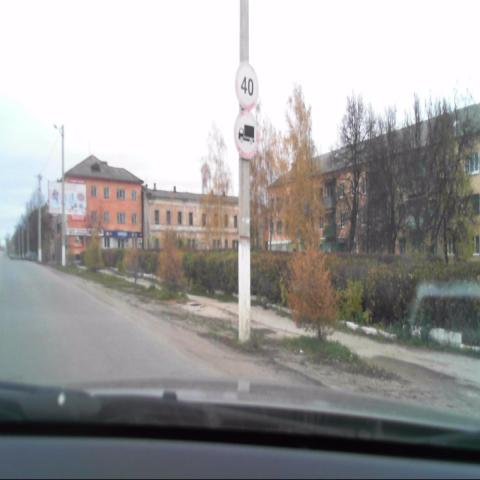3_4_1: (234, 108, 259, 162)
